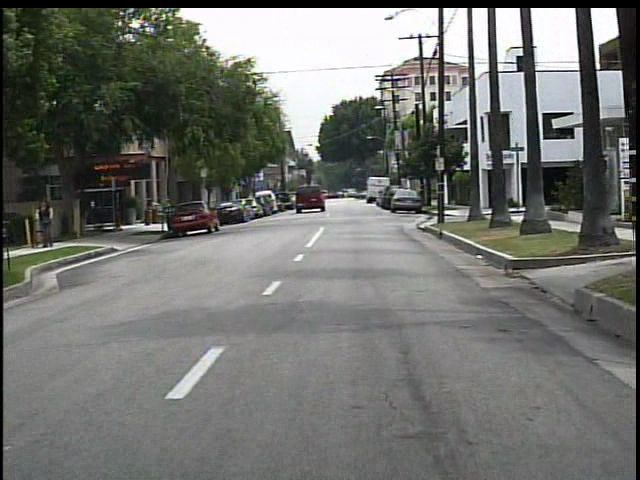person: (37, 196, 62, 249)
